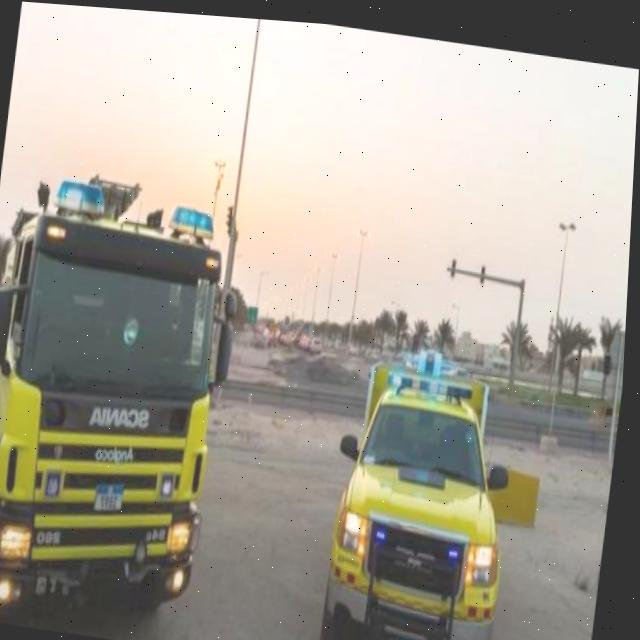emergency: (0, 160, 256, 640), (317, 327, 534, 640)
